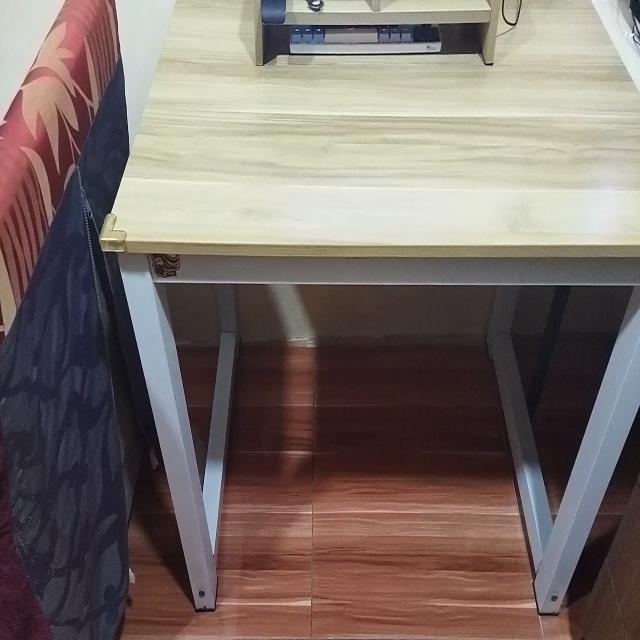table: (96, 0, 640, 614)
